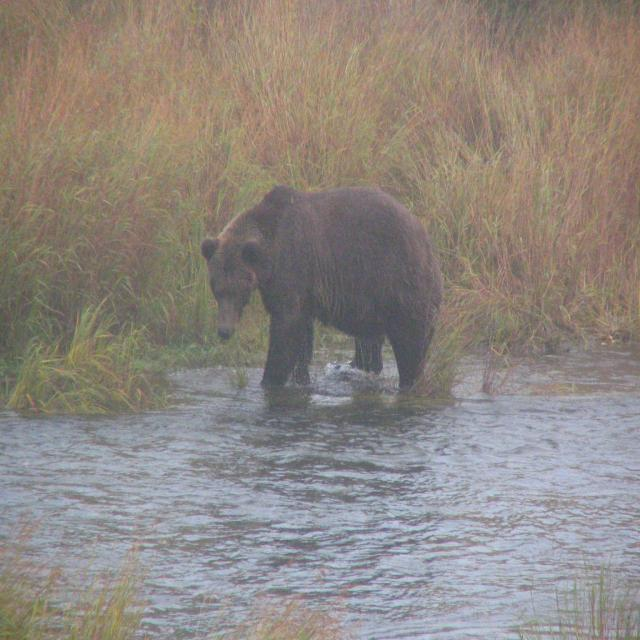bear face: (203, 191, 440, 378)
